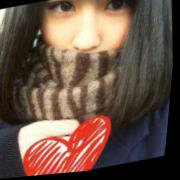WRONG: (31, 1, 147, 101)
